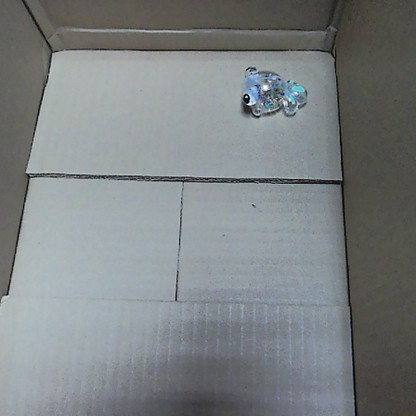whitefish: (239, 62, 308, 119)
